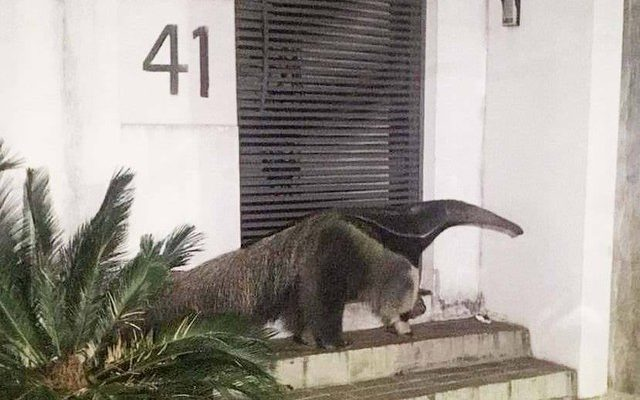TamanduaBandeira: (102, 197, 526, 351)
